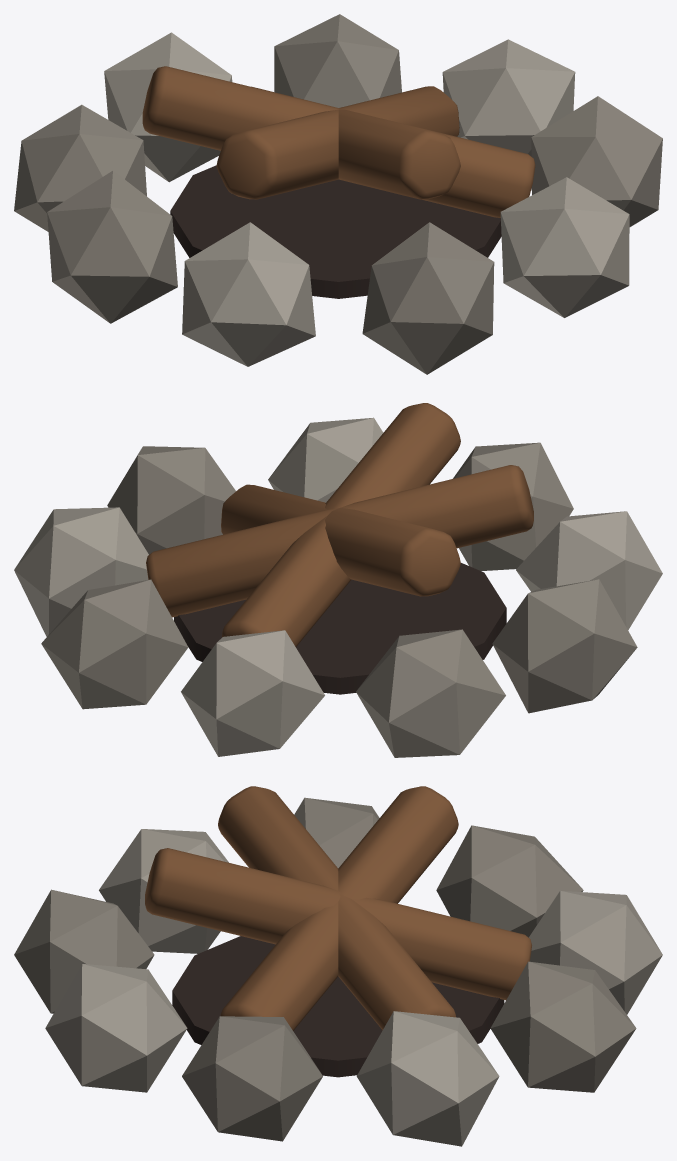
Rendered from campfire.fbx.
3 renders of one model, top to bottom at view 1: azimuth 30°, elevation 25°; view 2: azimuth 150°, elevation 25°; view 3: azimuth 270°, elevation 25°, orthographic.
Parts seen in each view (by area): view 1: campfire; view 2: campfire; view 3: campfire.
Part boxes in pixels (<box>): campfire: <box>14,14,662,374</box>; campfire: <box>14,403,662,757</box>; campfire: <box>14,786,662,1146</box>.
Size of the model in its own units: 0.6837 by 0.2215 by 0.7039.
